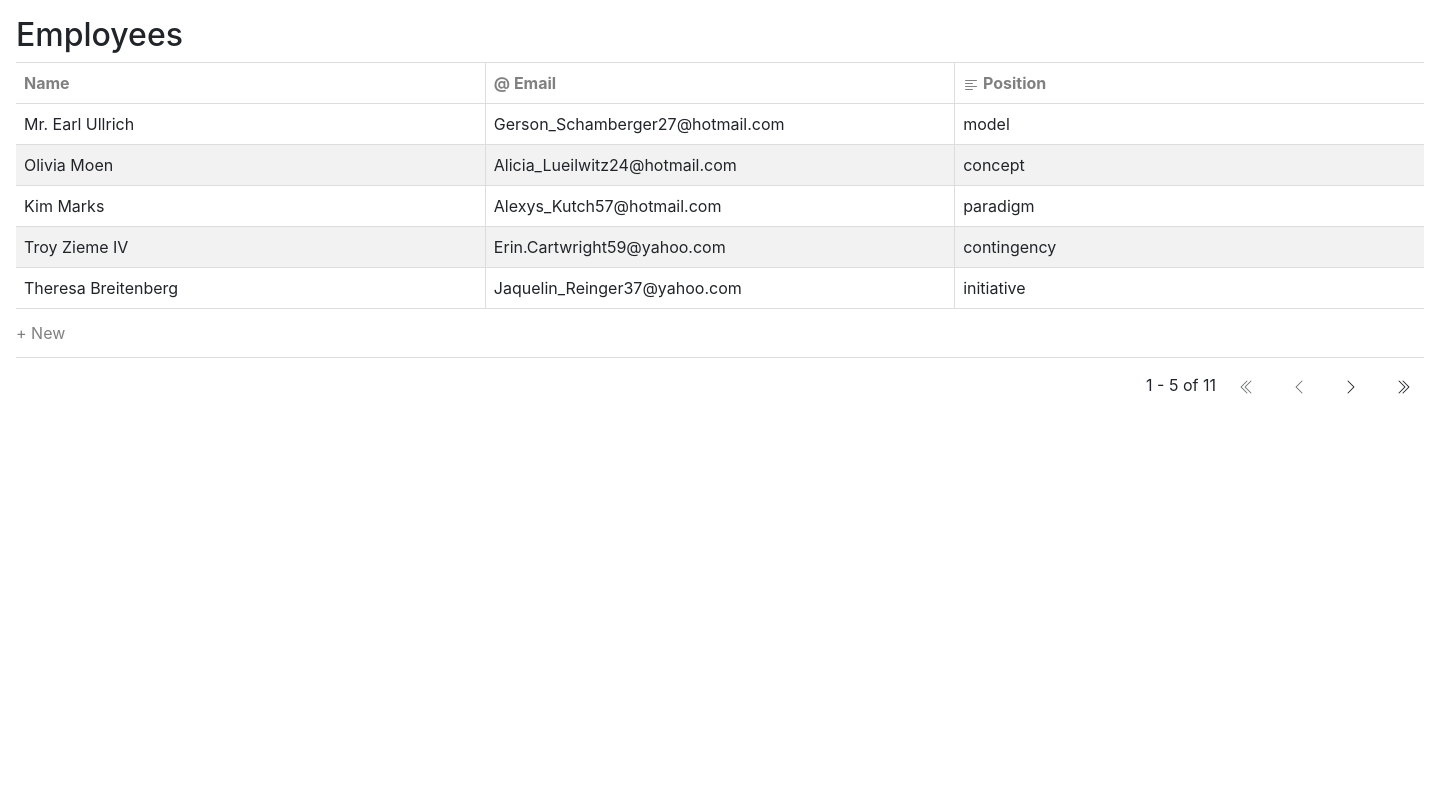
Scenario: Integration test Table › When add new employee fail
Expected: the text "Mr. Earl Ullrich" is shown, [16, 104, 485, 145]
Click the text "+ New".
click(720, 334)  # box [16, 309, 1424, 358]
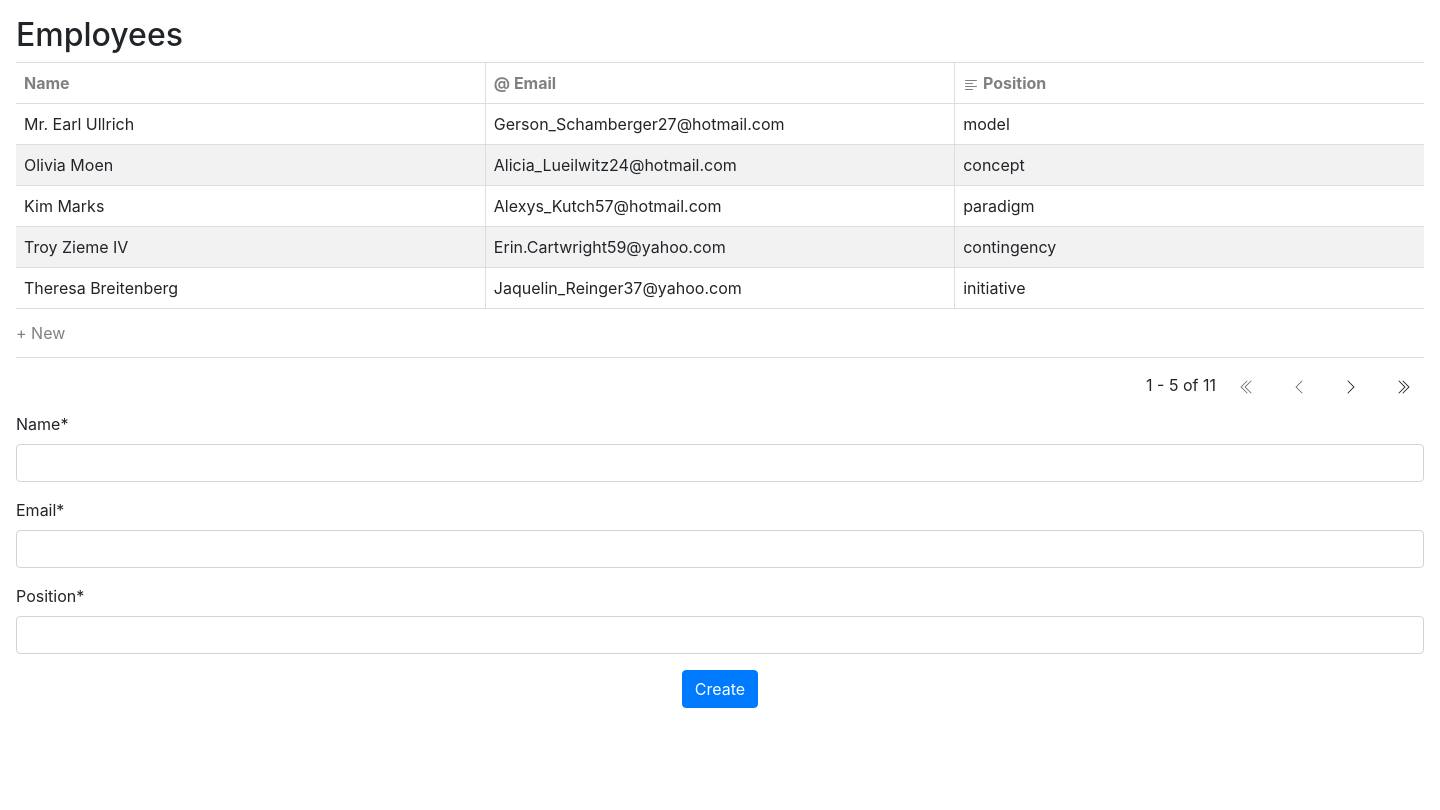
Expected: the field with id "name" is shown
Expected: the field with id "email" is shown, [16, 530, 1424, 568]
Expected: the field labelled "Position*" is shown, [16, 616, 1424, 654]
Type "name" into the field with id "name".
click(720, 463); type("name")  # box [16, 444, 1424, 482]
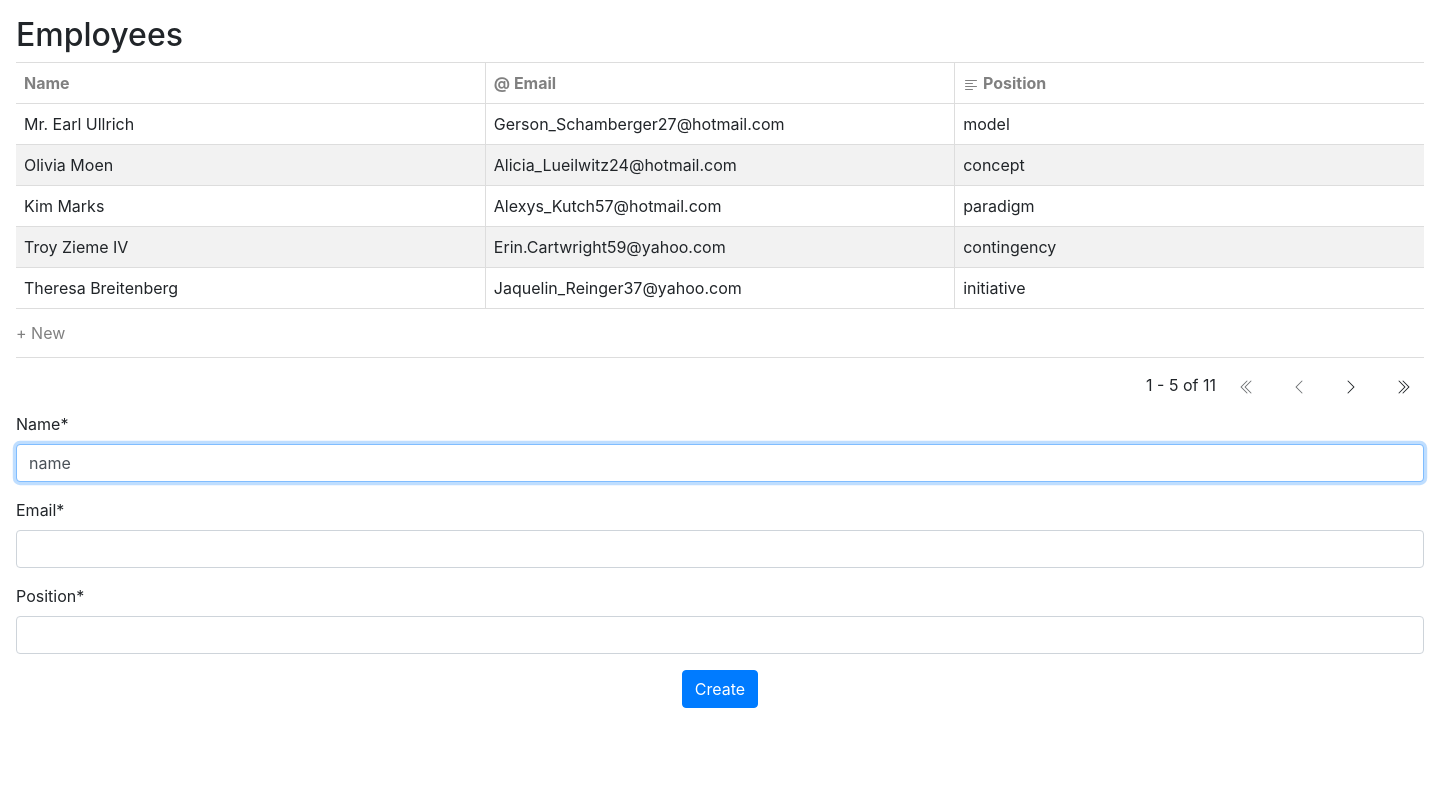
Type "email@gmail.com" into the field with id "email".
click(720, 549); type("email@gmail.com")  # box [16, 530, 1424, 568]
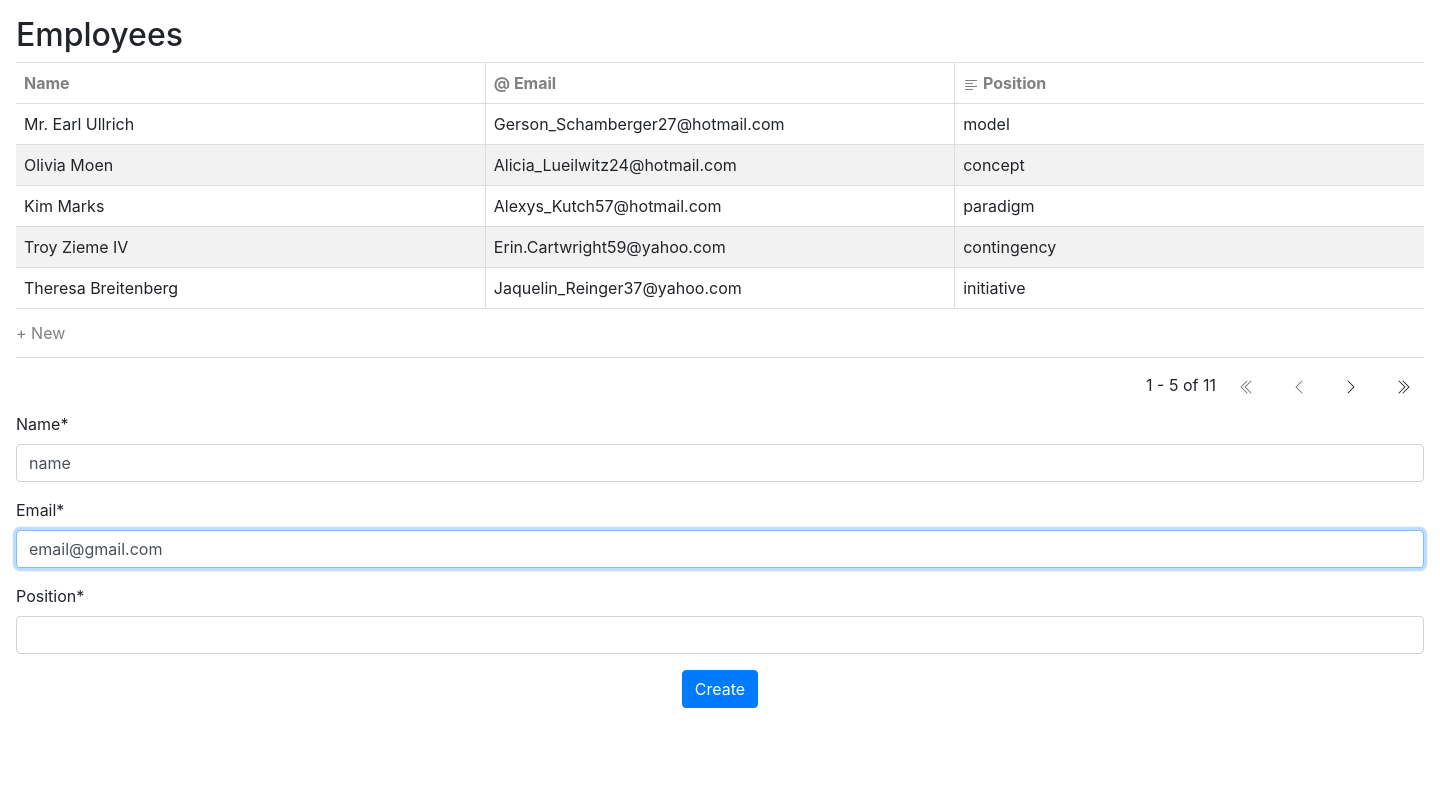
Type "position" into the field labelled "Position*".
click(720, 635); type("position")  # box [16, 616, 1424, 654]
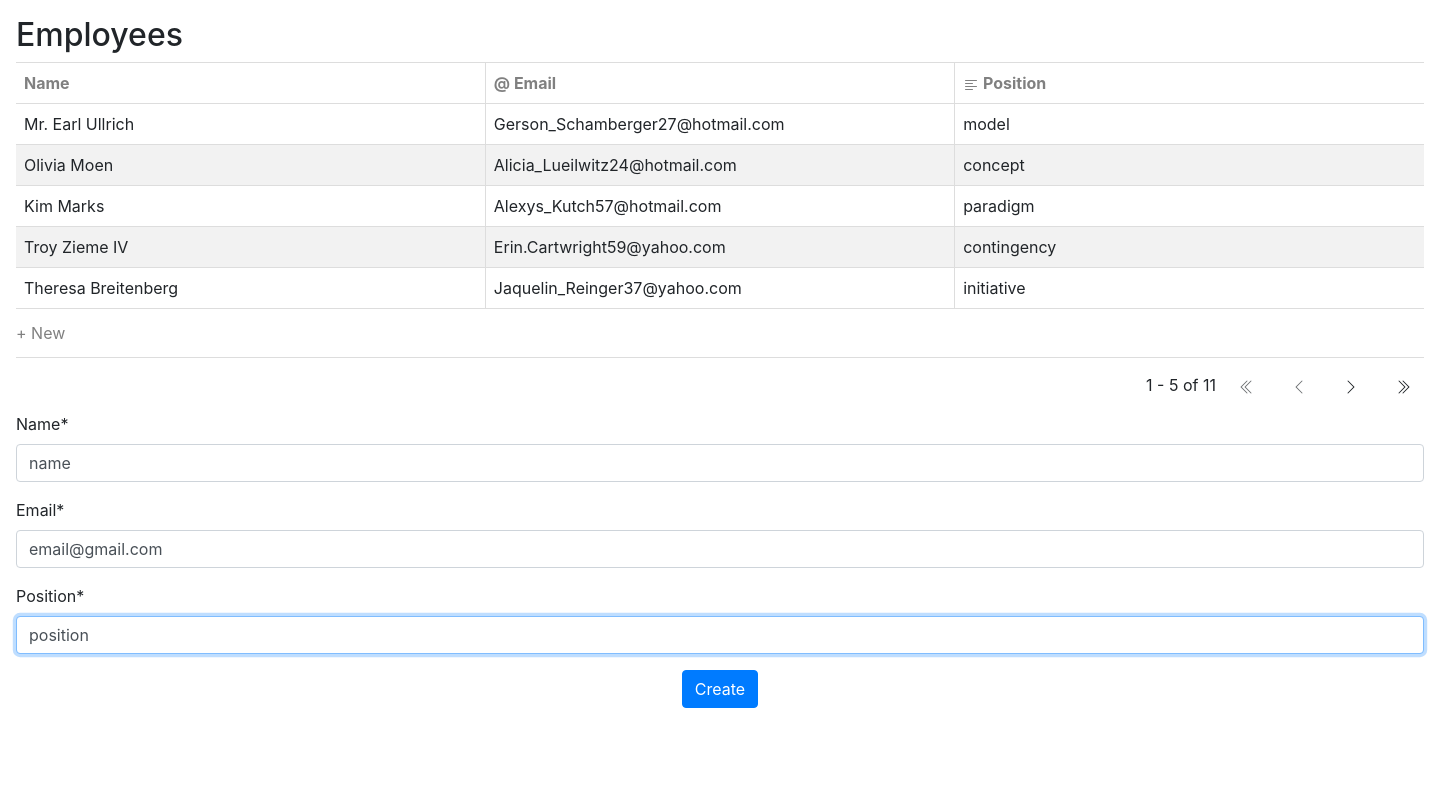
Click the button "Create".
click(720, 689)  # box [682, 670, 758, 708]
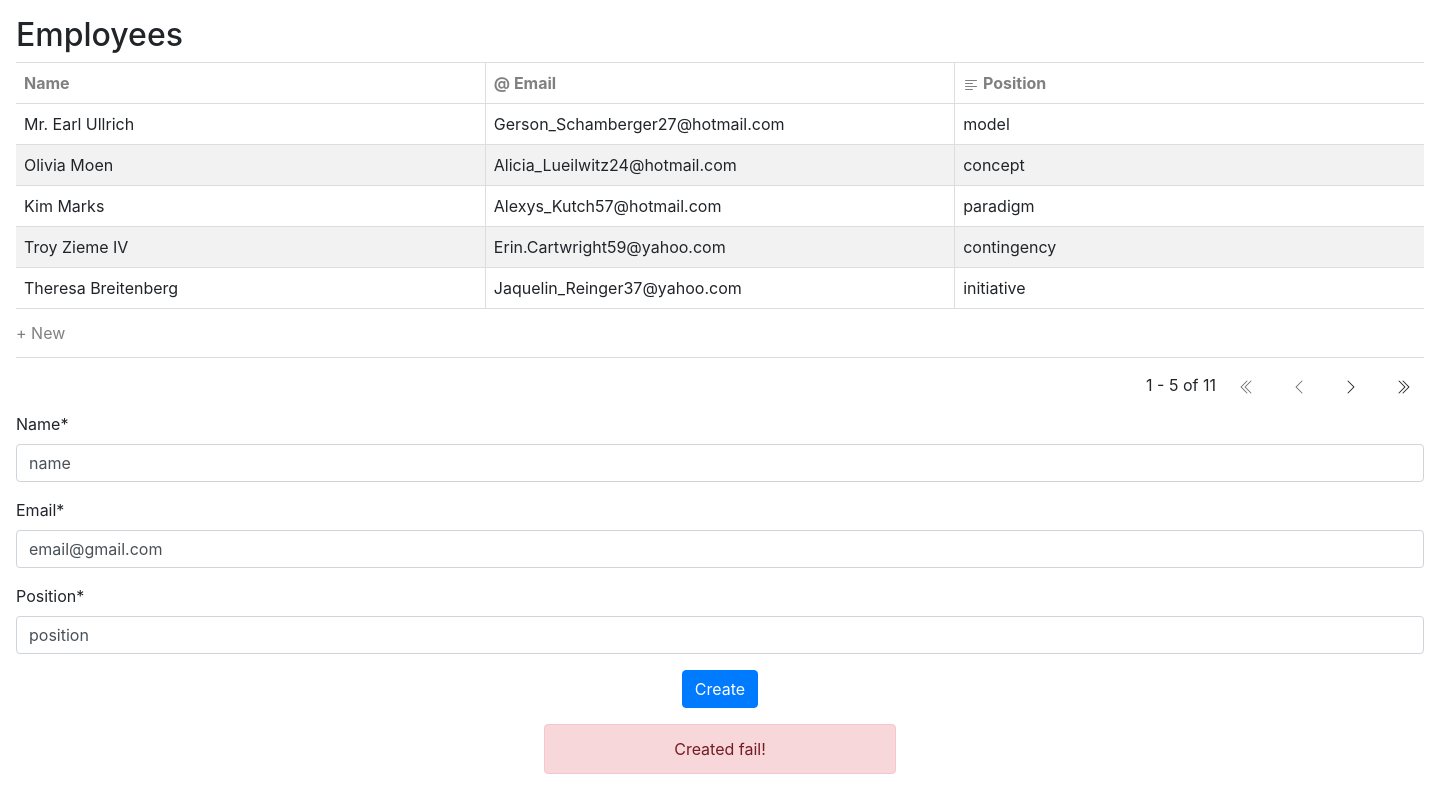
Expected: the text "Created fail!" is shown, [544, 724, 896, 774]
